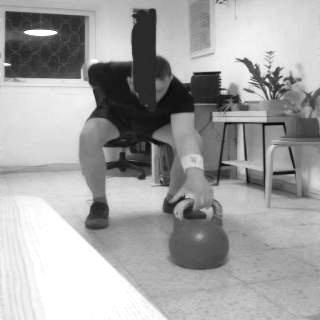kettlebell: (166, 183, 237, 277)
